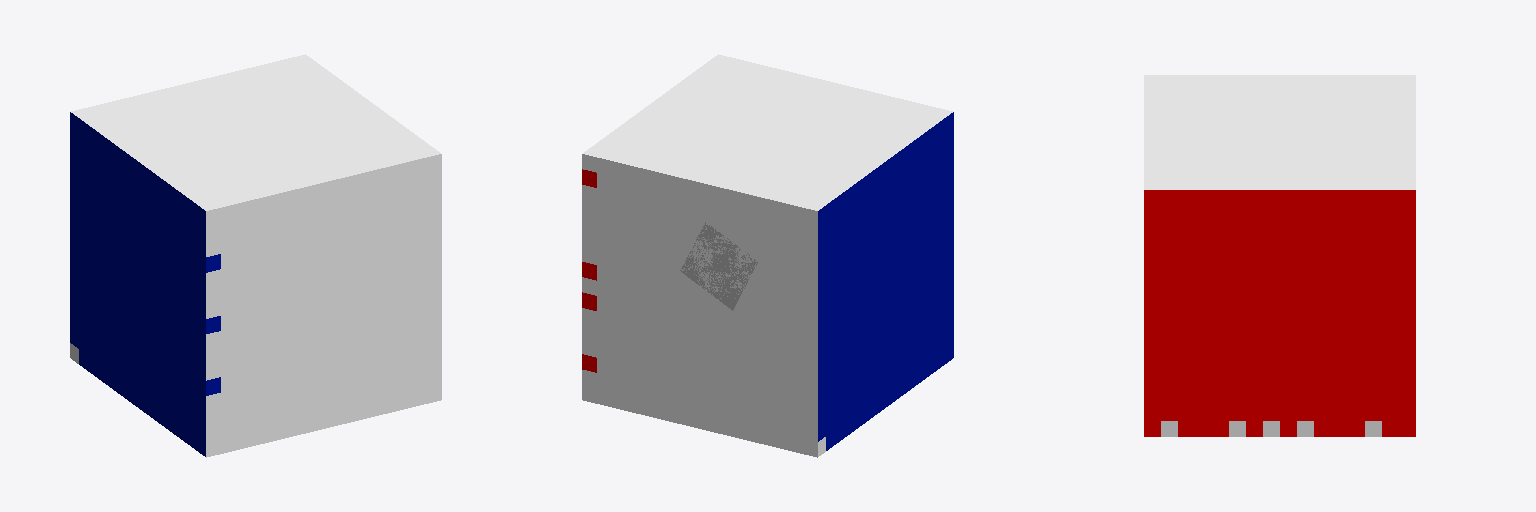
File: scene_subdivide_6.obj
3 views of the same model, side by side, from view 1: azimuth 30°, elevation 25°; view 2: azimuth 150°, elevation 25°; view 3: azimuth 270°, elevation 25° (orthographic).
Parts seen in each view (by area): view 1: Cube; view 2: Cube; view 3: Cube.
Boxes of the visible parts, <box> form: Cube: <box>70,54,441,457</box>; Cube: <box>582,54,953,457</box>; Cube: <box>1144,75,1415,436</box>.
Size of the model in its own units: 4 by 4 by 4.